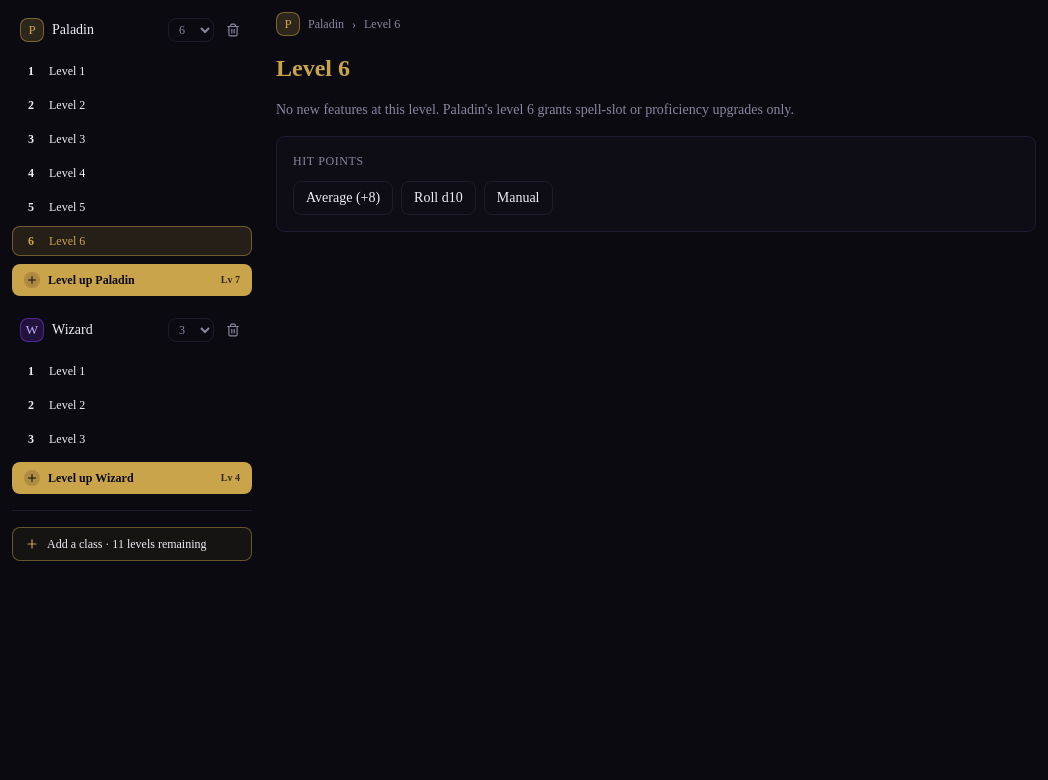
it: ClassStepRail — level-up flow › opening flow closes the multiclass picker if it was open
The width and height of the screenshot is (1048, 780).
# Open picker first
Click the button "Add a class · 11 levels remaining" at (132, 544), box 12,527 -> 252,561
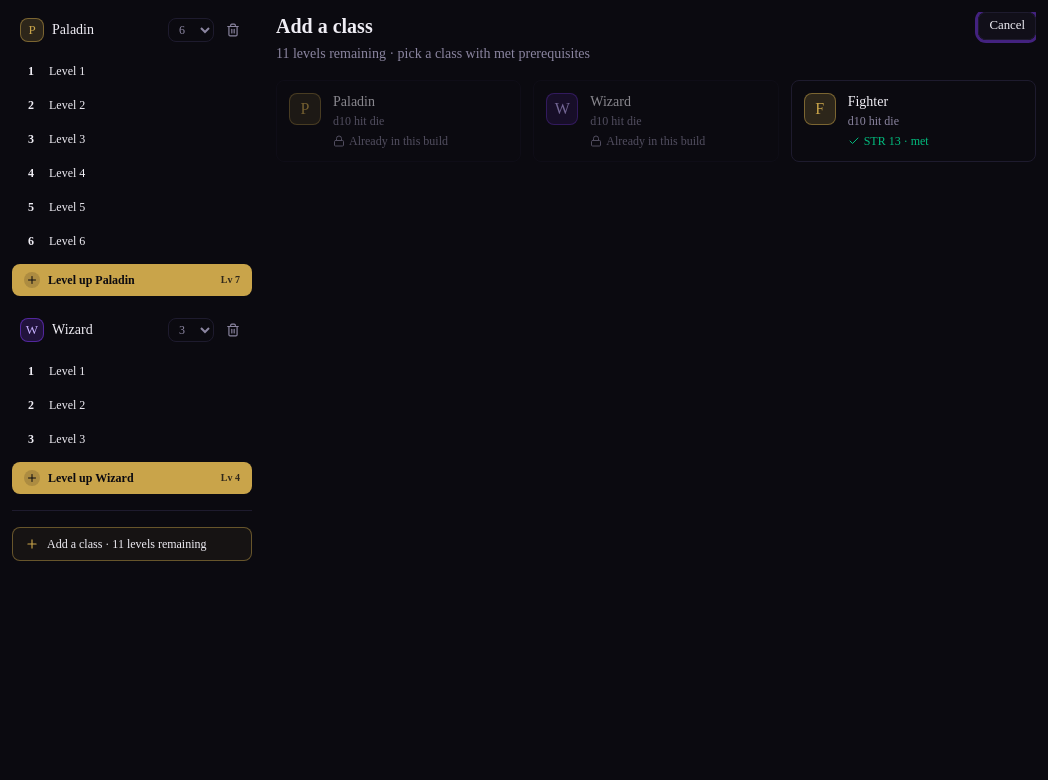
expect the heading "Add a class" is shown: met, box 276,15 -> 373,37
# Now open level-up flow
Click the button with aria-label "Level up Paladin to level 7" at (132, 280), box 12,264 -> 252,296
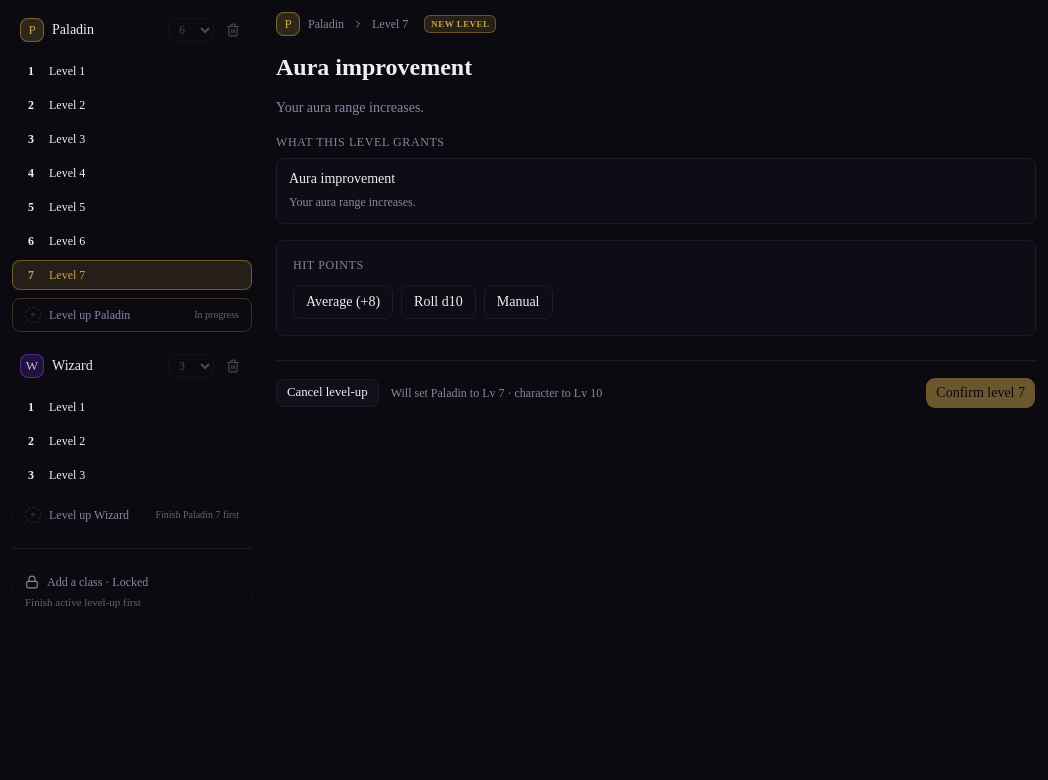
expect the text "NEW LEVEL" is shown: met, box 424,15 -> 496,33
